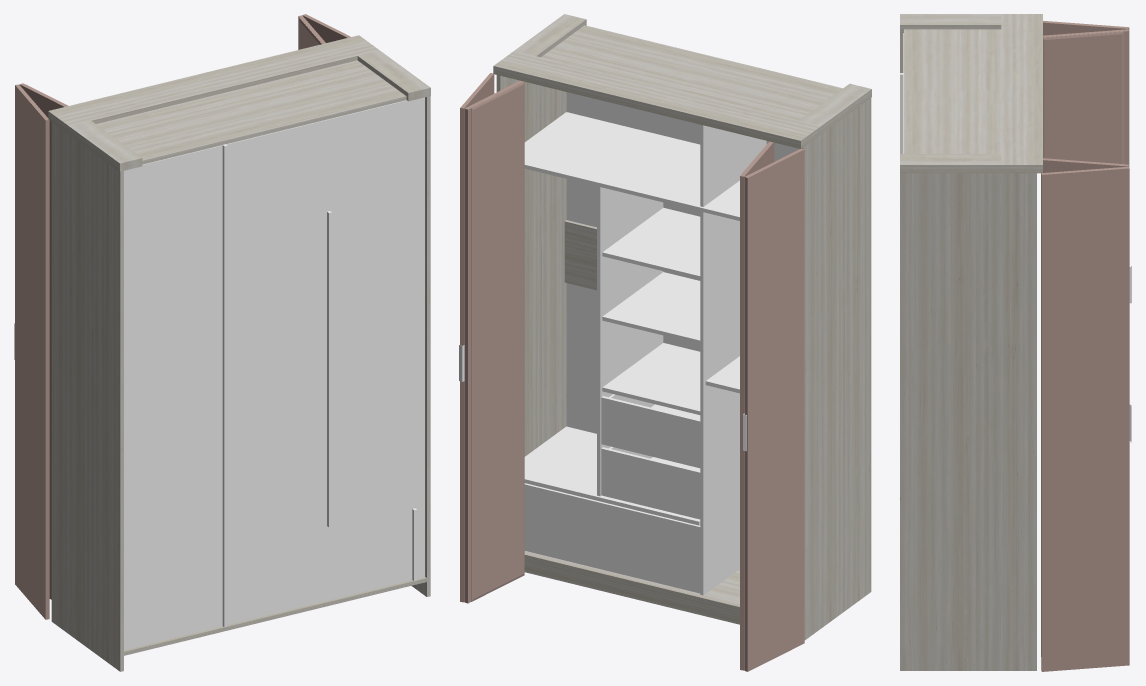
Rendered from closet.gltf.
The picture shows the model from 3 angles, left to right: view 1: azimuth 30°, elevation 25°; view 2: azimuth 150°, elevation 25°; view 3: azimuth 270°, elevation 25°; orthographic projection.
Visible parts, largest first — view 1: Karkas_Bej_glyanec_0, Korpus_Dub_sonoma_vert_0, Stvorka_R_Kapuchino_glyanec_0, Korpus_Dub_sonoma_gor_0, Stvorka_L_Kapuchino_glyanec_0; view 2: Karkas_Bej_glyanec_0, Korpus_Dub_sonoma_vert_0, Stvorka_R_Kapuchino_glyanec_0, Stvorka_L_Kapuchino_glyanec_0, Korpus_Dub_sonoma_gor_0; view 3: Korpus_Dub_sonoma_vert_0, Stvorka_L_Kapuchino_glyanec_0, Stvorka_R_Kapuchino_glyanec_0, Korpus_Dub_sonoma_gor_0, Karkas_Bej_glyanec_0.
Part boxes in pixels (x1=…): Karkas_Bej_glyanec_0: x1=124, y1=97, x2=425, y2=649; Korpus_Dub_sonoma_vert_0: x1=48, y1=35, x2=430, y2=671; Stvorka_R_Kapuchino_glyanec_0: x1=15, y1=83, x2=68, y2=619; Korpus_Dub_sonoma_gor_0: x1=48, y1=50, x2=430, y2=655; Stvorka_L_Kapuchino_glyanec_0: x1=298, y1=14, x2=350, y2=49; Karkas_Bej_glyanec_0: x1=524, y1=92, x2=799, y2=595; Korpus_Dub_sonoma_vert_0: x1=493, y1=25, x2=871, y2=640; Stvorka_R_Kapuchino_glyanec_0: x1=740, y1=141, x2=804, y2=671; Stvorka_L_Kapuchino_glyanec_0: x1=460, y1=73, x2=524, y2=603; Korpus_Dub_sonoma_gor_0: x1=514, y1=14, x2=871, y2=624; Korpus_Dub_sonoma_vert_0: x1=900, y1=14, x2=1042, y2=670; Stvorka_L_Kapuchino_glyanec_0: x1=1041, y1=158, x2=1129, y2=671; Stvorka_R_Kapuchino_glyanec_0: x1=1043, y1=20, x2=1129, y2=167; Korpus_Dub_sonoma_gor_0: x1=900, y1=14, x2=1042, y2=173; Karkas_Bej_glyanec_0: x1=900, y1=33, x2=903, y2=153.
Bounding box in the file's own units: 1.53 × 2.35 × 0.9739.
Materials: 6 (4 with a texture image).
